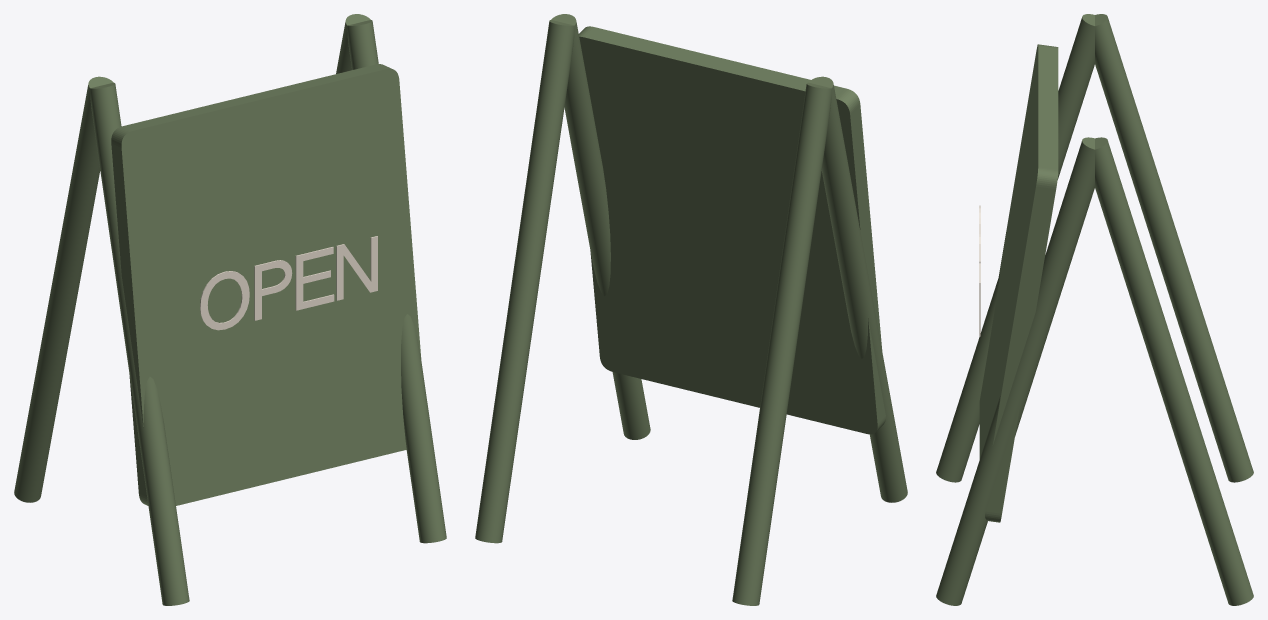
The model's file is open-sign.glb.
3 renders of one model, left to right at view 1: azimuth 30°, elevation 25°; view 2: azimuth 150°, elevation 25°; view 3: azimuth 270°, elevation 25°, orthographic.
Visible parts, largest first — view 1: surface-#6F7F5F,0,0.7, surface-#F0E6D8,0,0.7; view 2: surface-#6F7F5F,0,0.7; view 3: surface-#6F7F5F,0,0.7.
Part boxes in pixels (x1,y1,x2,y2): surface-#6F7F5F,0,0.7: (14, 14, 446, 605); surface-#F0E6D8,0,0.7: (200, 236, 377, 330); surface-#6F7F5F,0,0.7: (475, 14, 907, 605); surface-#6F7F5F,0,0.7: (936, 14, 1253, 605).
Size of the model in its own units: 0.546 by 0.8728 by 0.5442.
